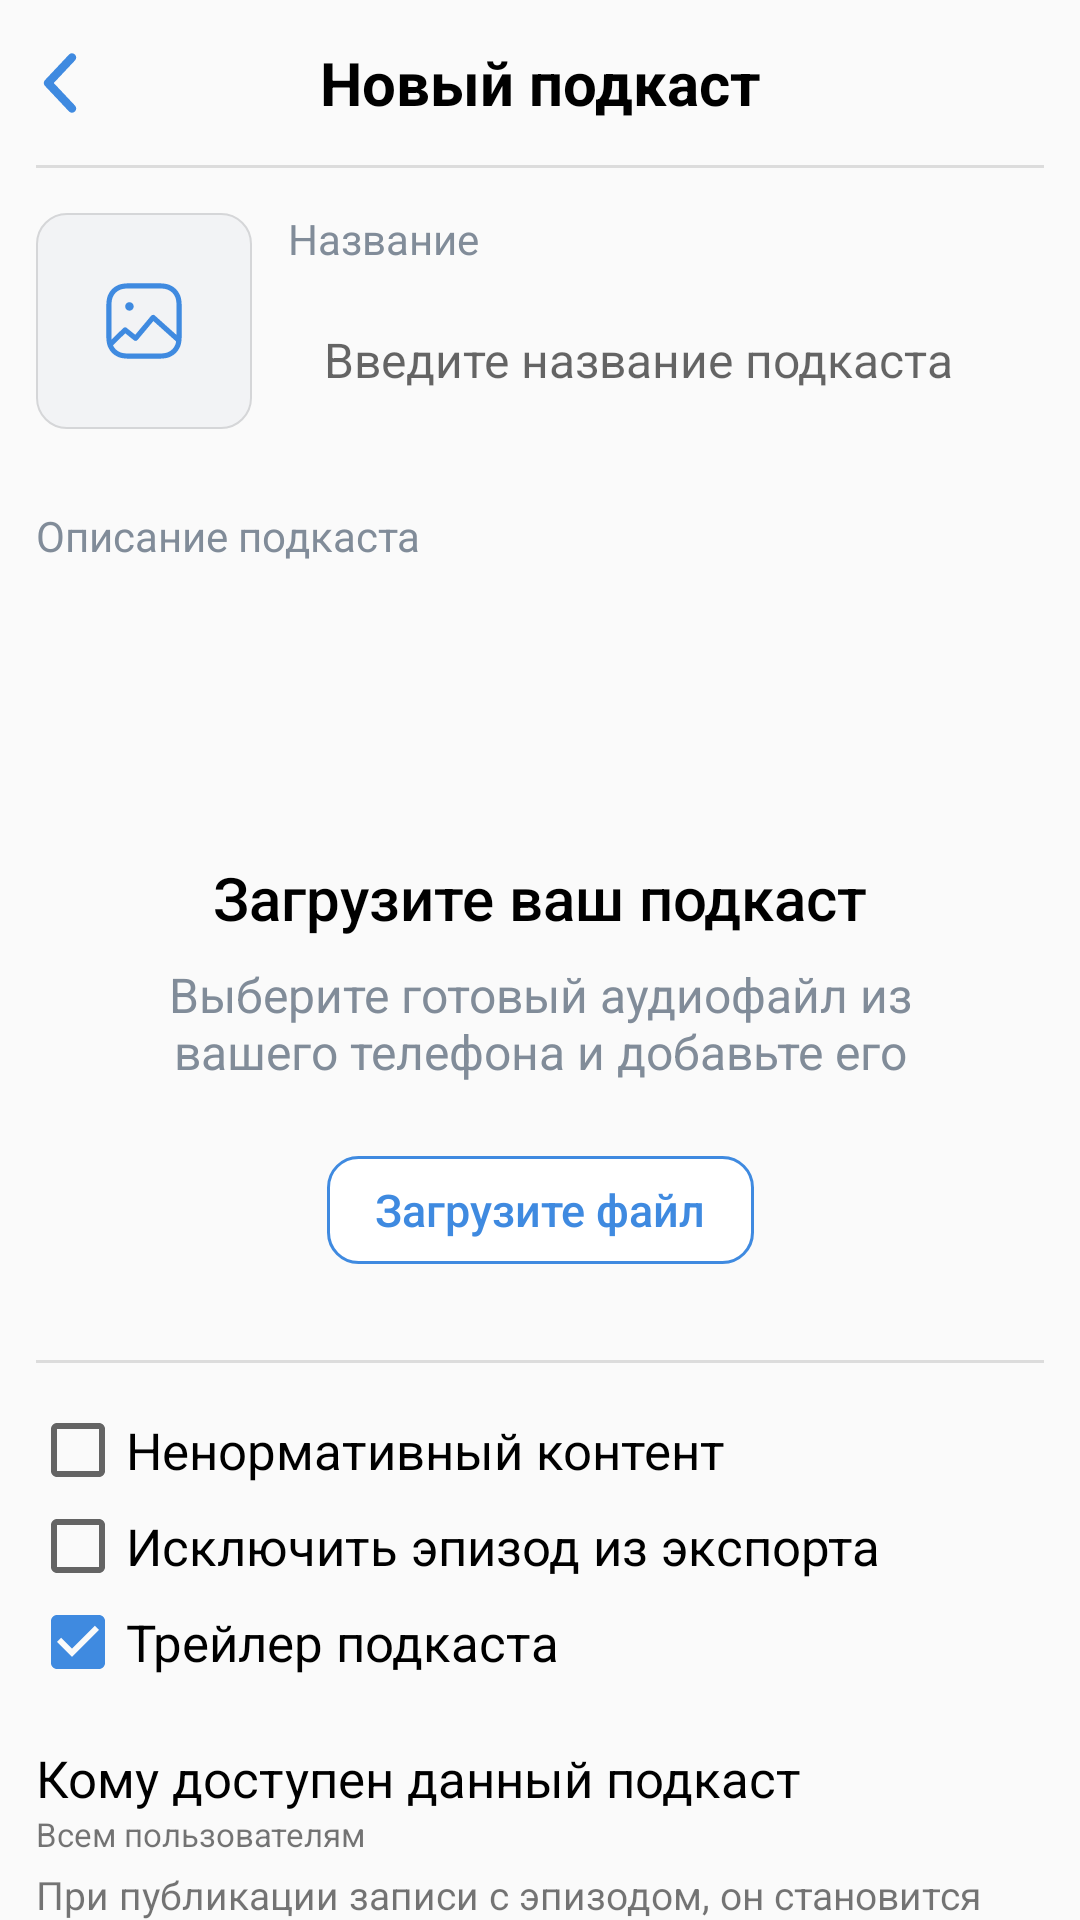

Icons on this 1080×1920 Android screen, each with its box as [x1=x1, y1=y1, x2=x2, y2=y2]:
gallery: [x1=36, y1=213, x2=252, y2=429]
